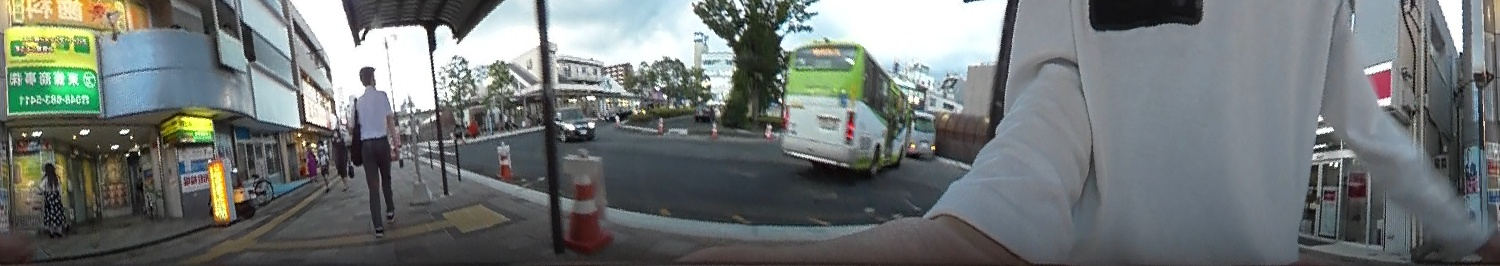difficult_person: (34, 162, 70, 237), (325, 126, 357, 196), (301, 137, 321, 186), (318, 144, 331, 194)
person: (342, 61, 407, 243)
